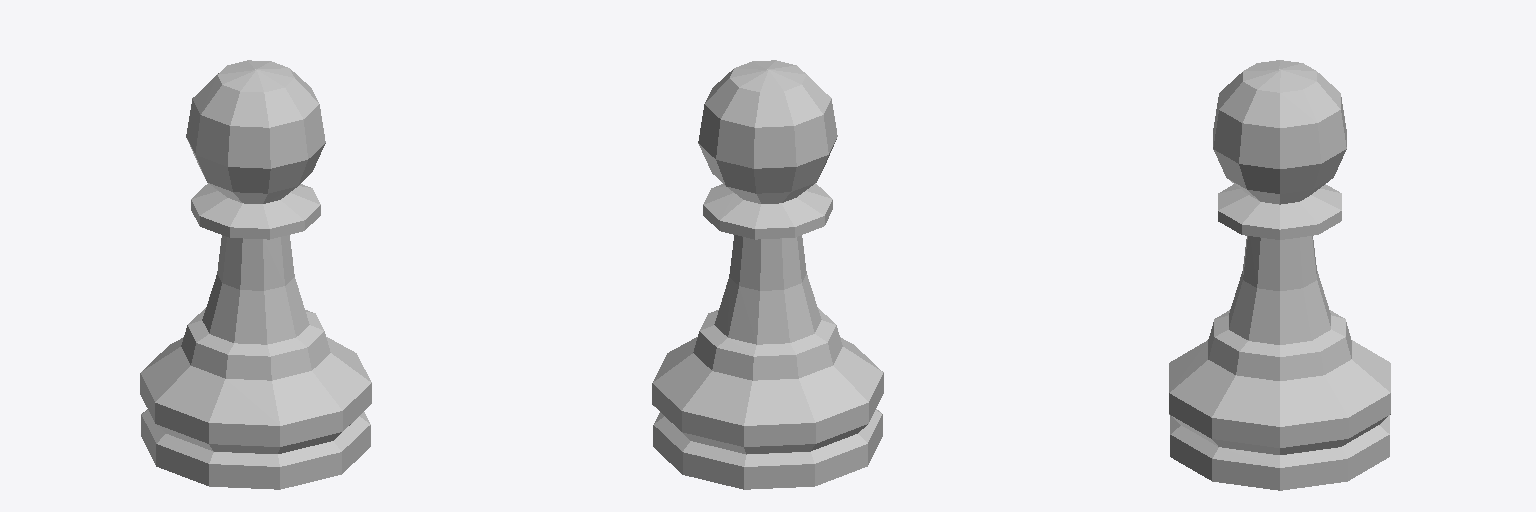
The model's file is Peon.obj.
3 views of the same model, side by side, from view 1: azimuth 30°, elevation 25°; view 2: azimuth 150°, elevation 25°; view 3: azimuth 270°, elevation 25° (orthographic).
Visible parts, largest first — view 1: Peon; view 2: Peon; view 3: Peon.
Boxes of the visible parts, <box> form: Peon: <box>140,60,371,489</box>; Peon: <box>652,60,883,489</box>; Peon: <box>1169,60,1390,490</box>.
Size of the model in its own units: 1.99 by 3.52 by 1.9.